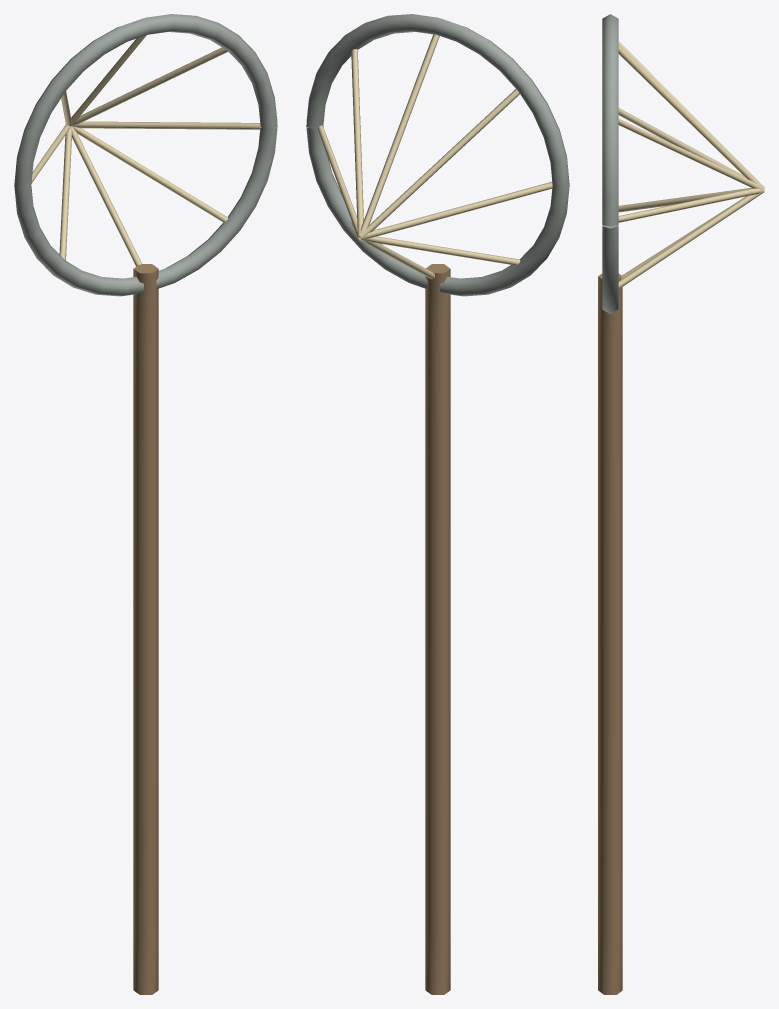
Rendered from zoo-and-safari-park-builder-capture-net-9208d079__21514.glb.
3 views of the same model, side by side, from view 1: azimuth 30°, elevation 25°; view 2: azimuth 150°, elevation 25°; view 3: azimuth 270°, elevation 25° (orthographic).
Parts seen in each view (by area): view 1: capture-net; view 2: capture-net; view 3: capture-net.
Boxes of the visible parts, x1=… form: capture-net: x1=14, y1=14, x2=277, y2=994; capture-net: x1=306, y1=14, x2=569, y2=994; capture-net: x1=598, y1=14, x2=764, y2=994.
Bounding box in the file's own units: 0.5339 × 1.89 × 0.2964.
